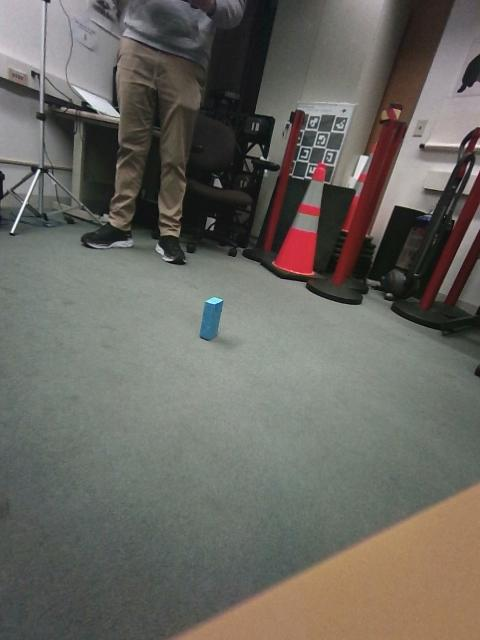block: (273, 326, 315, 380)
